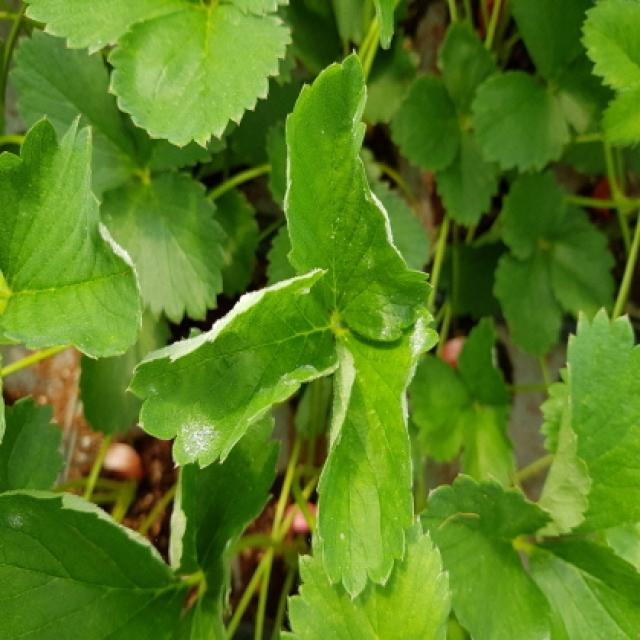Powdery Mildew Leaf: (124, 267, 343, 472), (283, 48, 434, 344), (314, 304, 440, 601), (2, 111, 146, 362), (2, 489, 198, 638)
